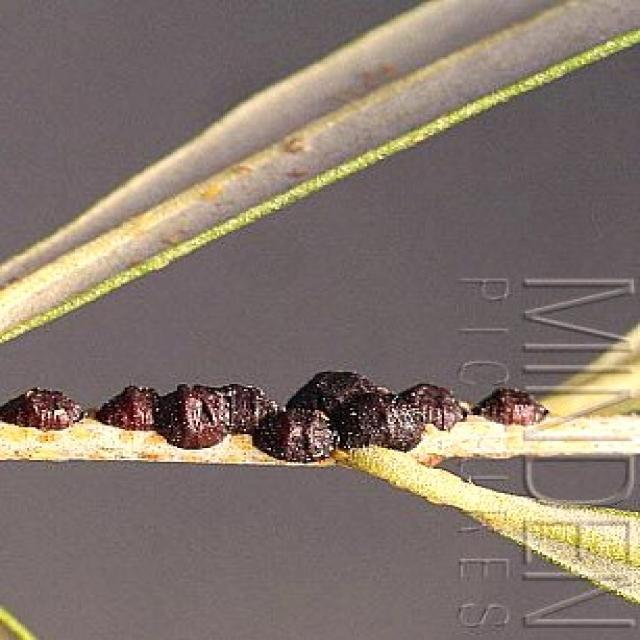BlackScale: (98, 372, 546, 468), (0, 387, 83, 429)
